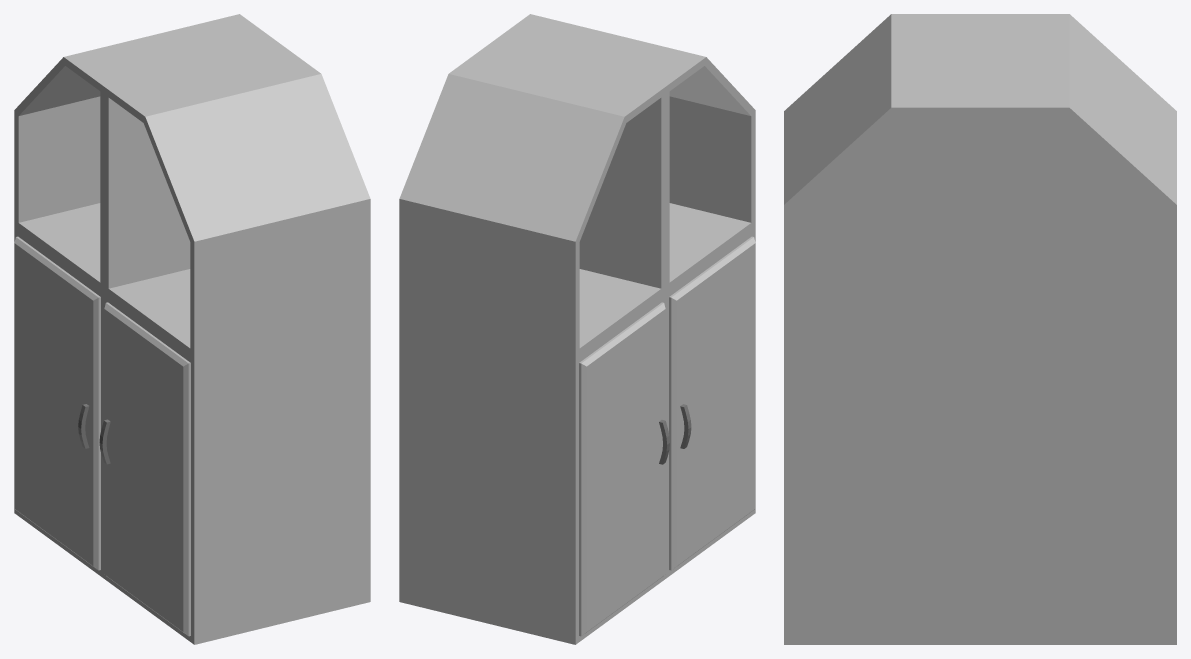
The model's file is Wardrobe_23.fbx.
The picture shows the model from 3 angles, left to right: view 1: azimuth 30°, elevation 25°; view 2: azimuth 150°, elevation 25°; view 3: azimuth 270°, elevation 25°; orthographic projection. The views are drawn at different scales.
Parts seen in each view (by area): view 1: Wardrobe_23, Wardrobe_23 Door_1, Wardrobe_23 Door_2; view 2: Wardrobe_23, Wardrobe_23 Door_2, Wardrobe_23 Door_1; view 3: Wardrobe_23.
Boxes of the visible parts, x1=… form: Wardrobe_23: x1=14, y1=14, x2=370, y2=644; Wardrobe_23 Door_1: x1=99, y1=302, x2=190, y2=636; Wardrobe_23 Door_2: x1=14, y1=236, x2=100, y2=570; Wardrobe_23: x1=399, y1=14, x2=755, y2=644; Wardrobe_23 Door_2: x1=579, y1=302, x2=669, y2=636; Wardrobe_23 Door_1: x1=669, y1=236, x2=755, y2=570; Wardrobe_23: x1=784, y1=14, x2=1176, y2=644.
Size of the model in its own units: 0.642 by 1.59 by 1.05.
